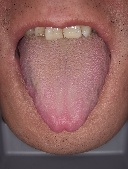tongue: (17, 42, 111, 134)
